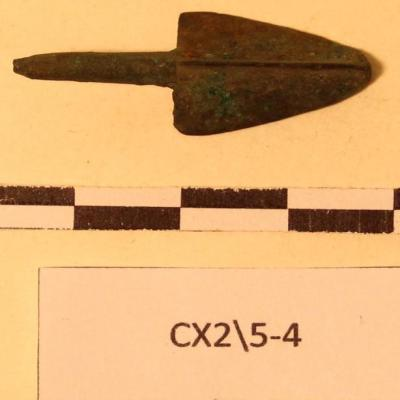archeology: (12, 12, 384, 138)
